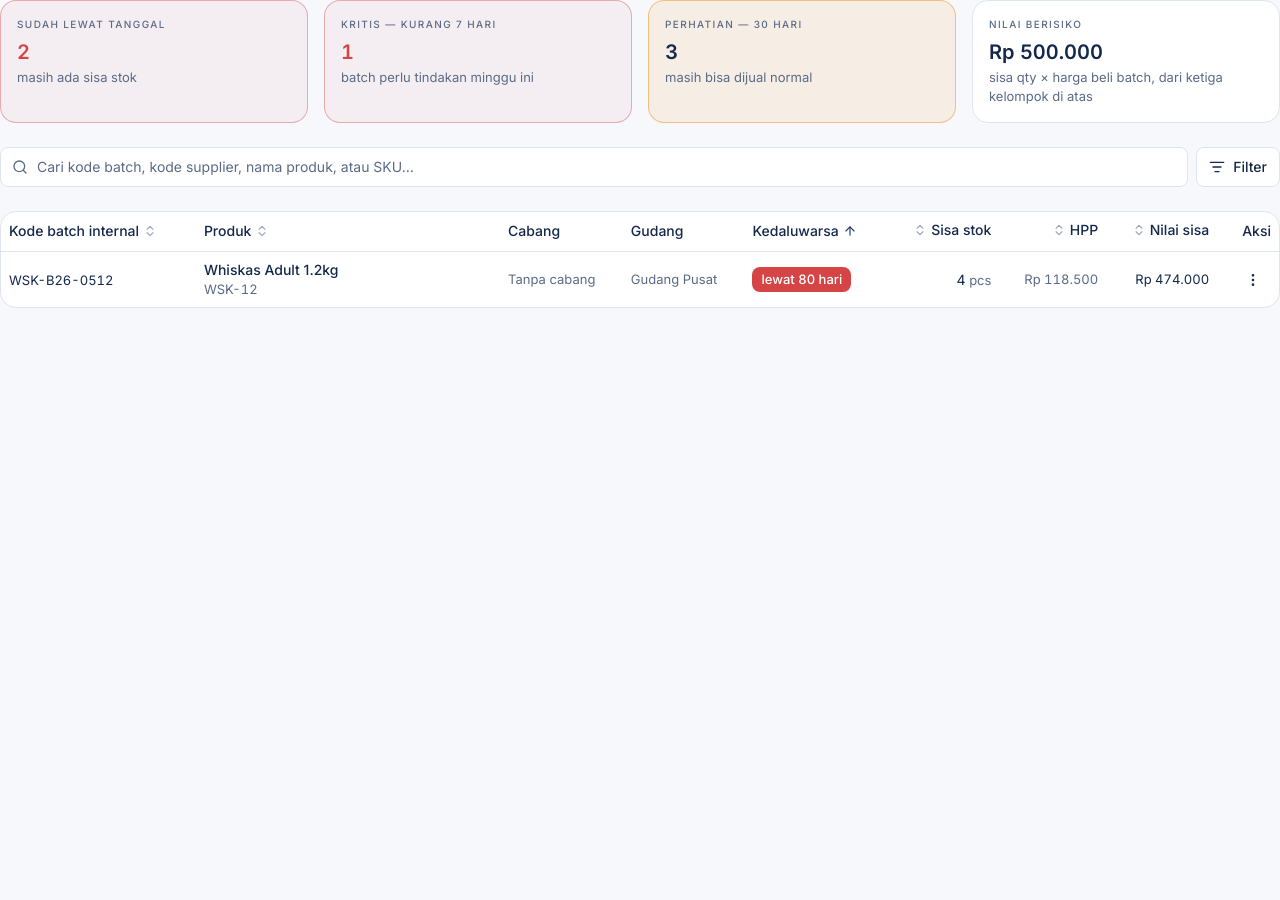
BatchesScreen › sorting from the headers › re-orders both endpoints, and the ordering survives the switch
This screenshot has width=1280, height=900.
Click the button "Sisa stok" at (952, 230), box [913,220,991,240]
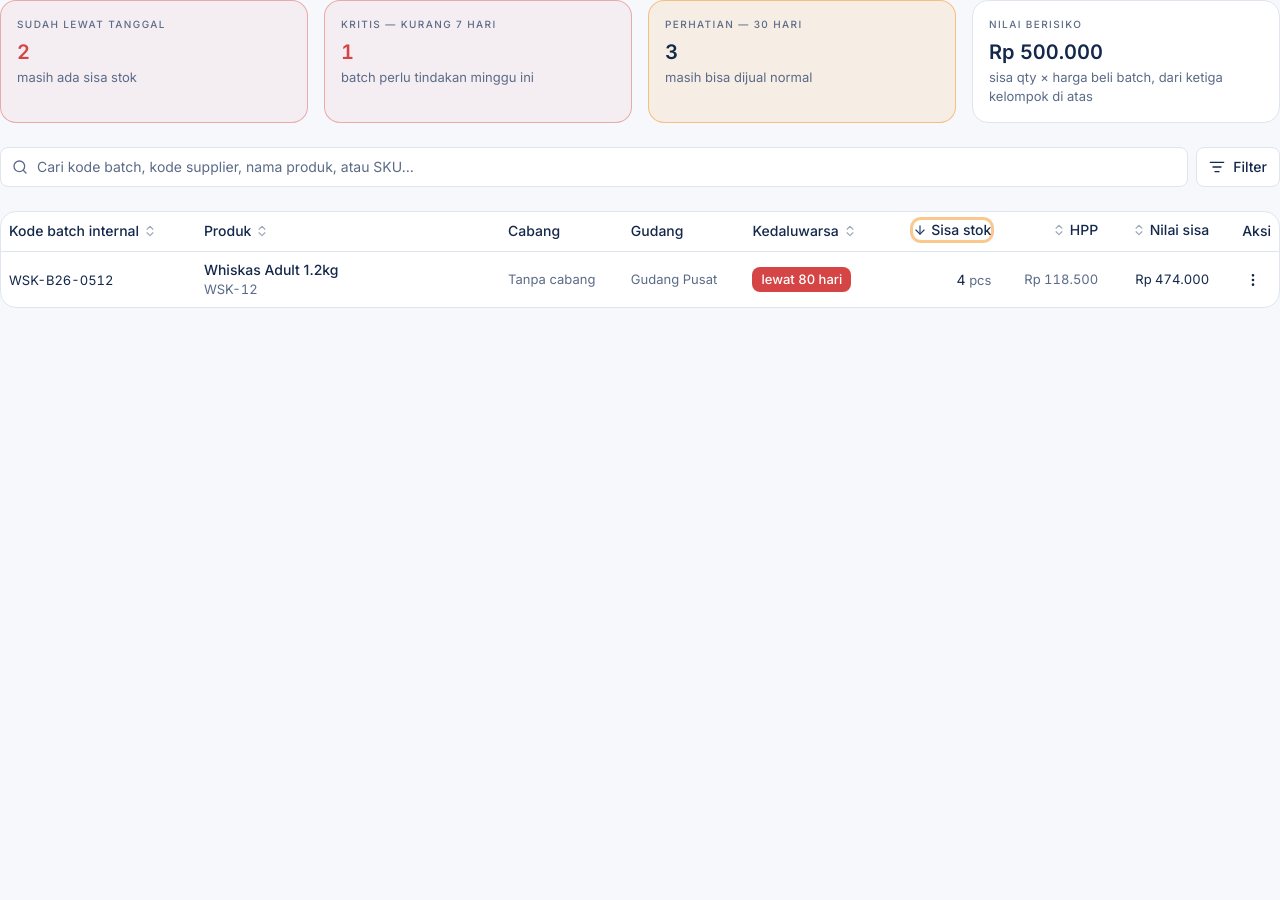
Click the button "Filter" at (1238, 167), box [1196,147,1279,187]
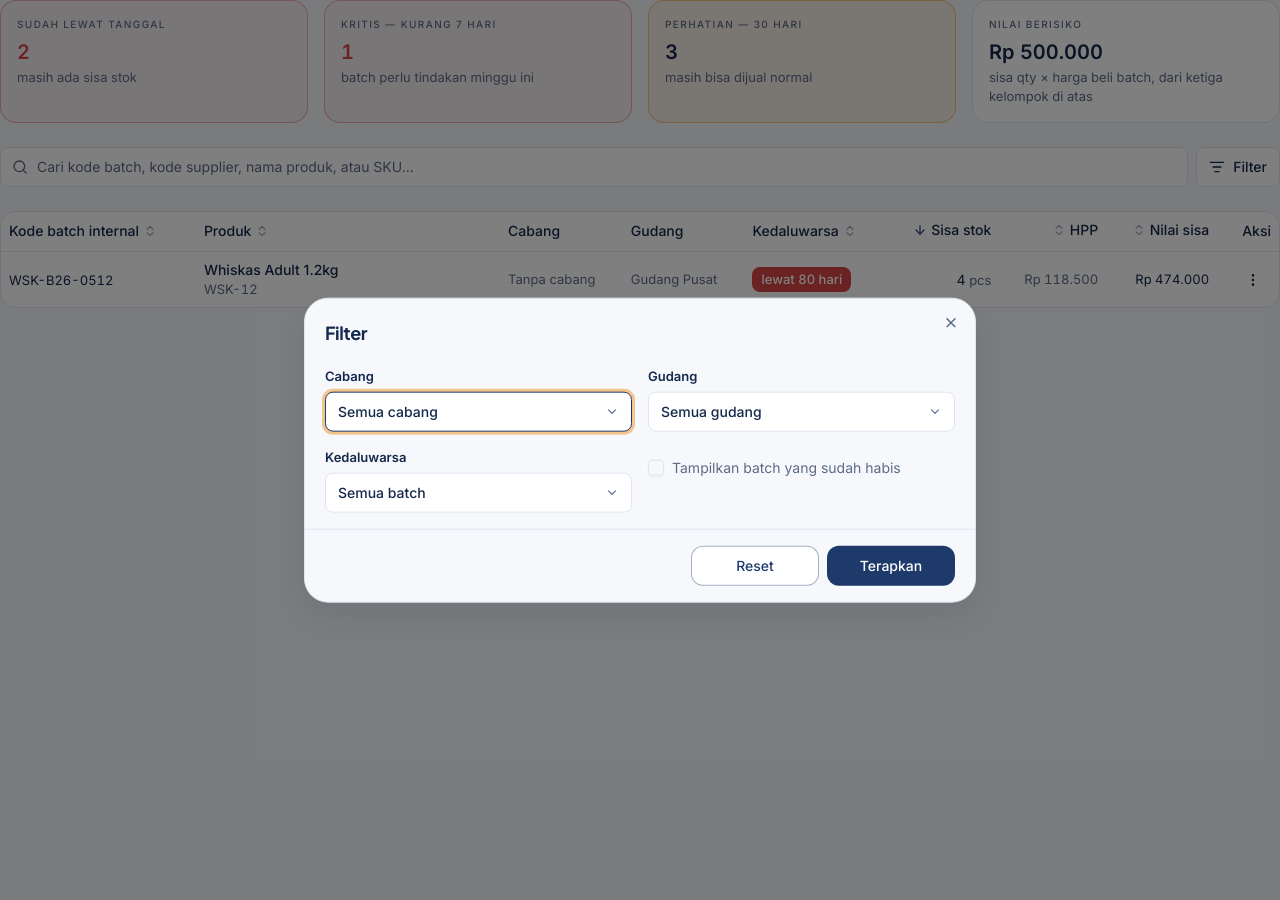
Click the button with aria-label "Rentang kedaluwarsa" at (382, 492), box [325,472,632,512]
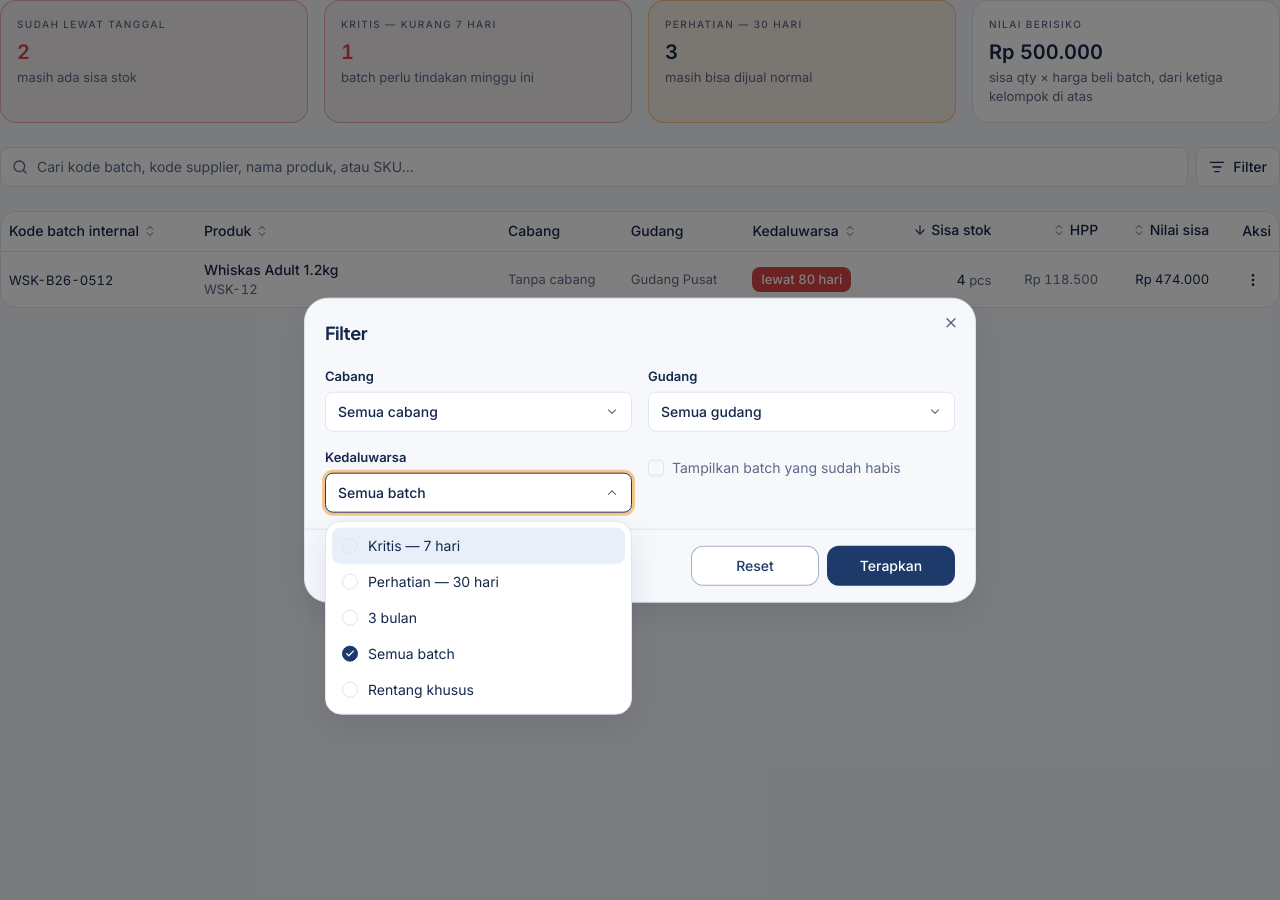
Click the option "Perhatian — 30 hari" at (420, 581), box [342,573,499,590]
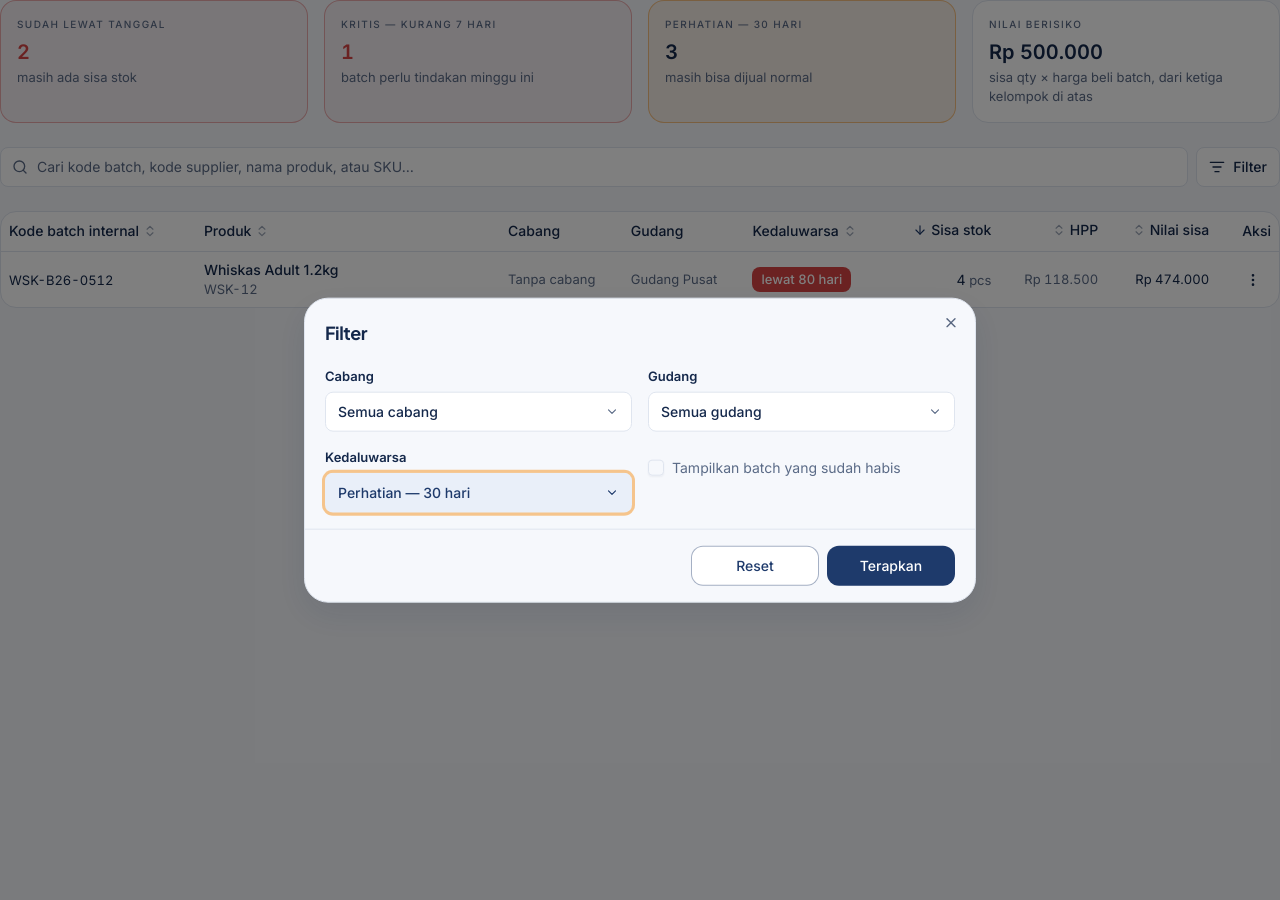
Click the button "Terapkan" at (891, 565), box [827,545,955,585]
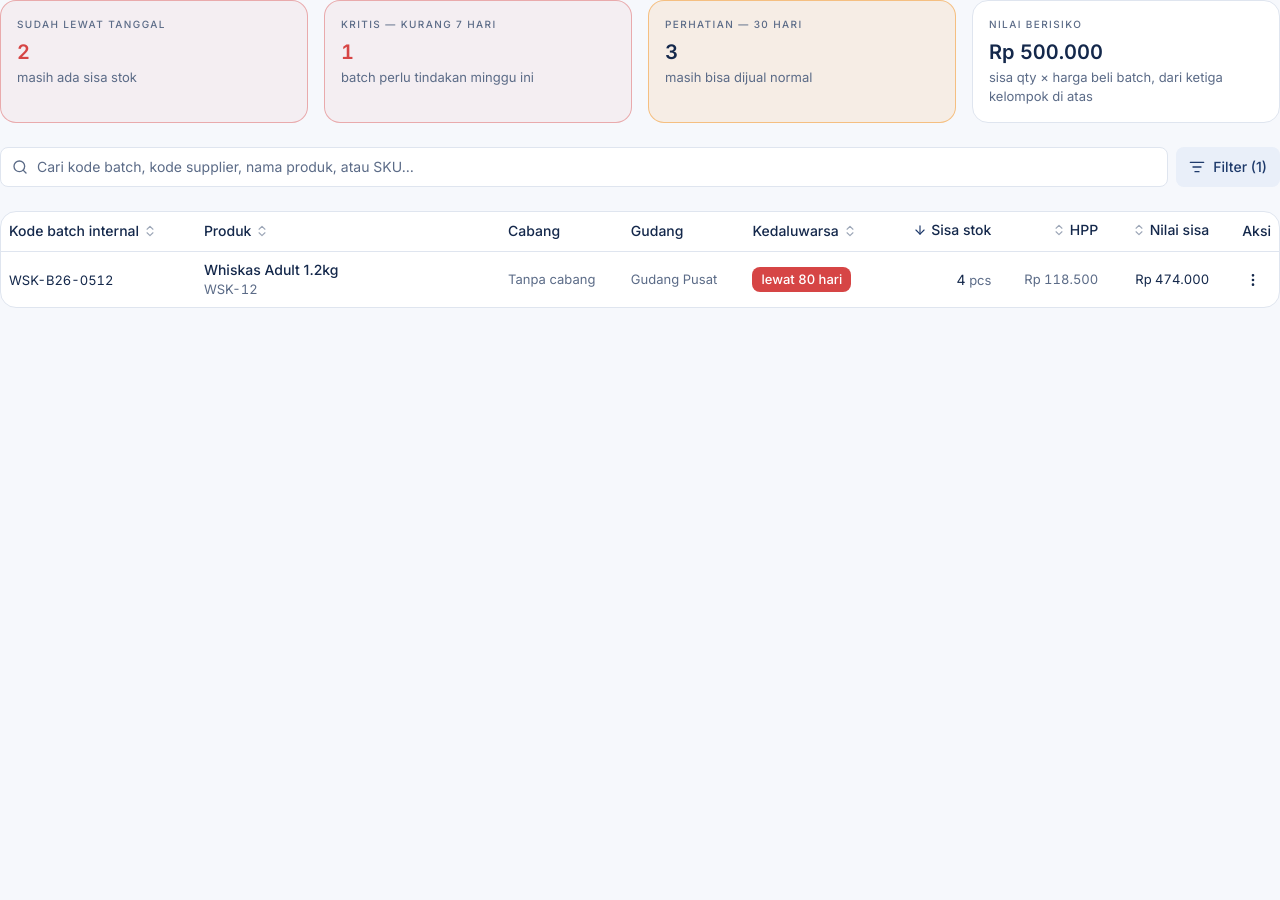
Expected: the button "Filter (1)" is shown, [1176,147,1279,187]
